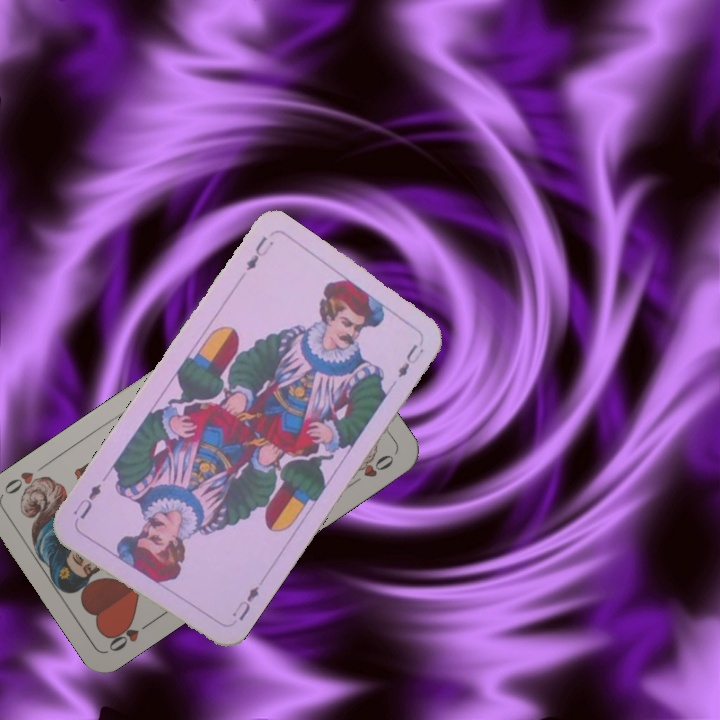EU: (228, 581, 262, 624), (241, 232, 276, 273)
HO: (103, 615, 157, 655)
